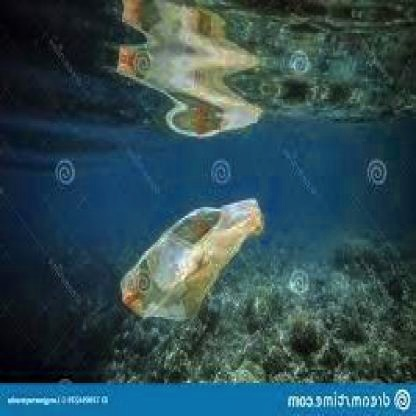pbag: (119, 196, 266, 326)
